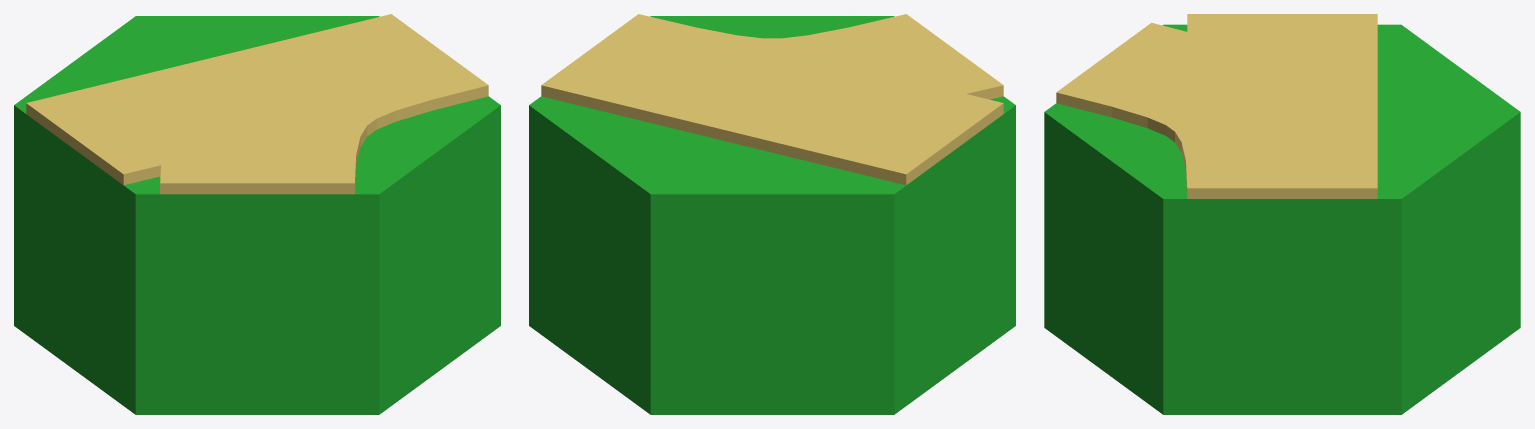
File: path-left_corner.glb
3 renders of one model, left to right at view 1: azimuth 30°, elevation 25°; view 2: azimuth 150°, elevation 25°; view 3: azimuth 270°, elevation 25°, orthographic. The views are drawn at different scales.
Visible parts, largest first — view 1: path-left_corner; view 2: path-left_corner; view 3: path-left_corner.
Boxes of the visible parts, <box> form: path-left_corner: <box>14,14,500,414</box>; path-left_corner: <box>529,14,1015,414</box>; path-left_corner: <box>1044,14,1520,414</box>.
Bounding box in the file's own units: 0.866 × 0.525 × 1.
